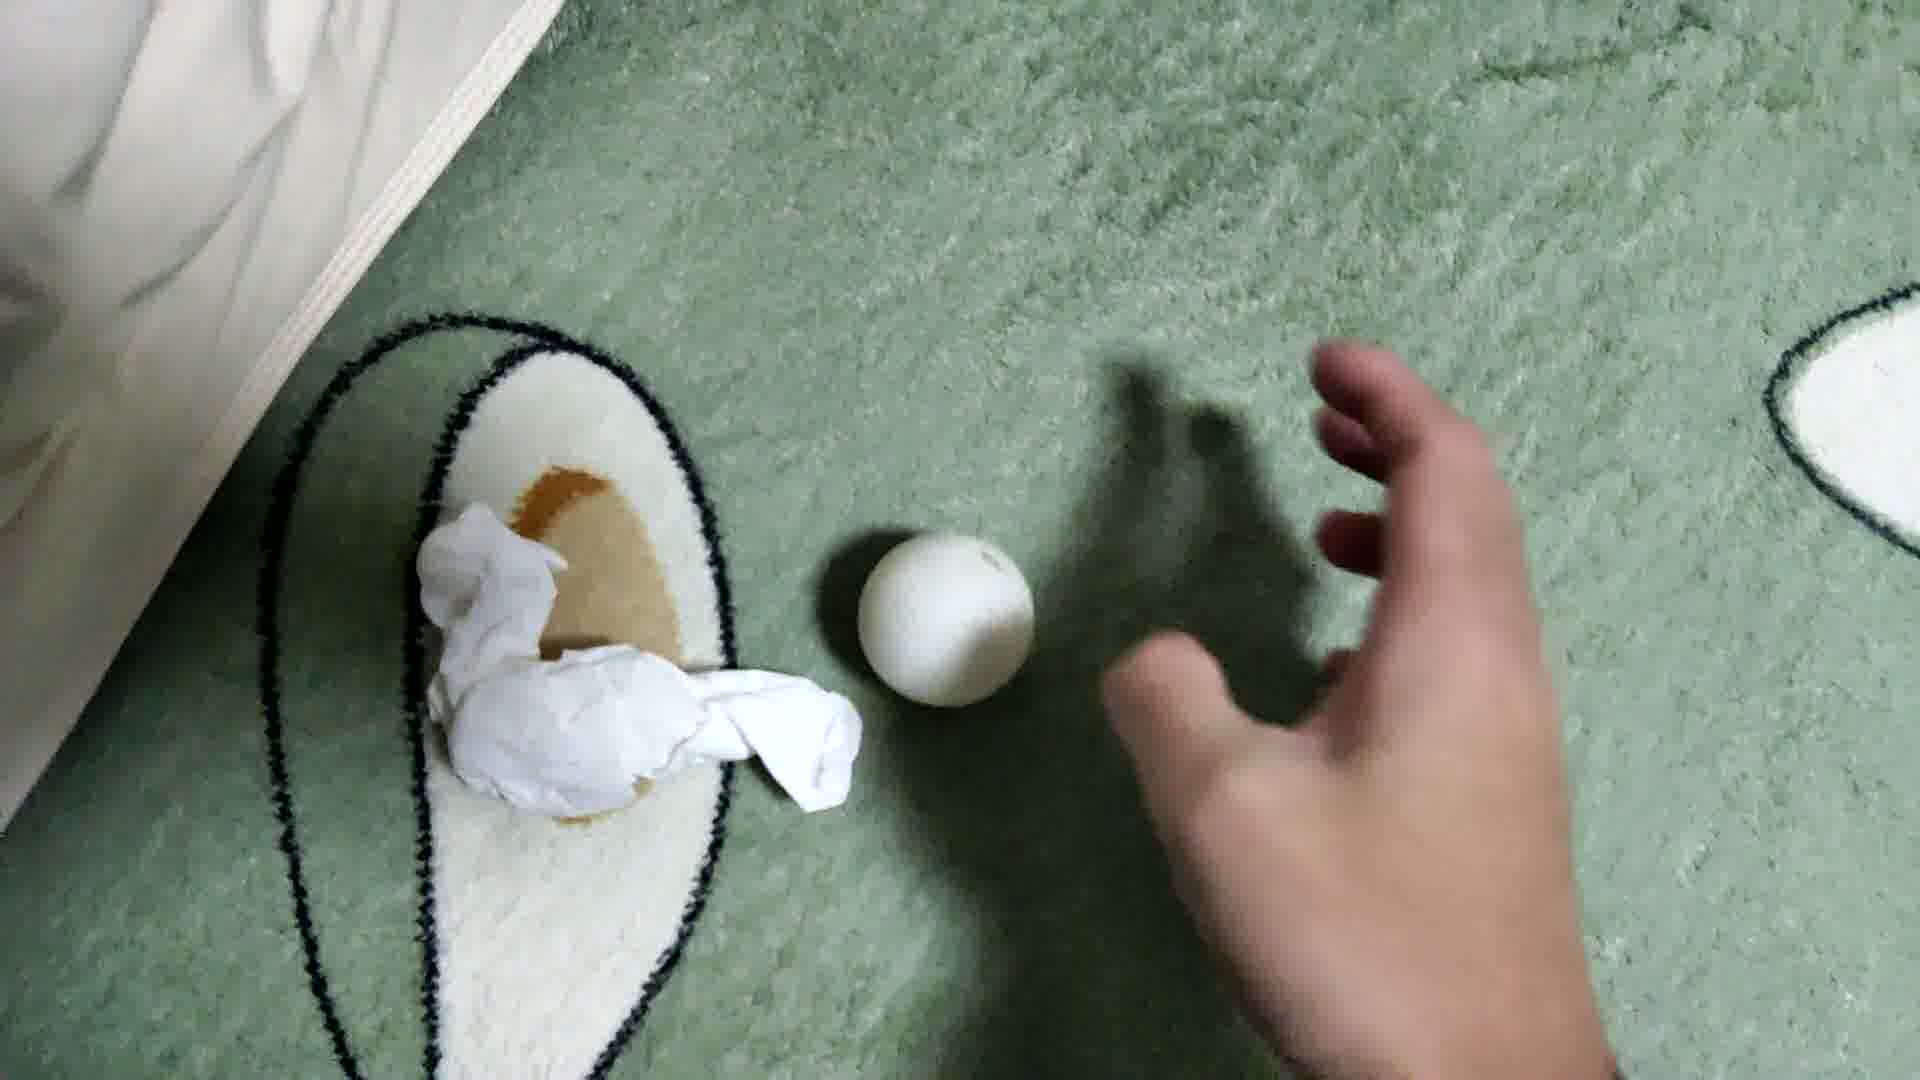Ball: (862, 529, 1033, 708)
